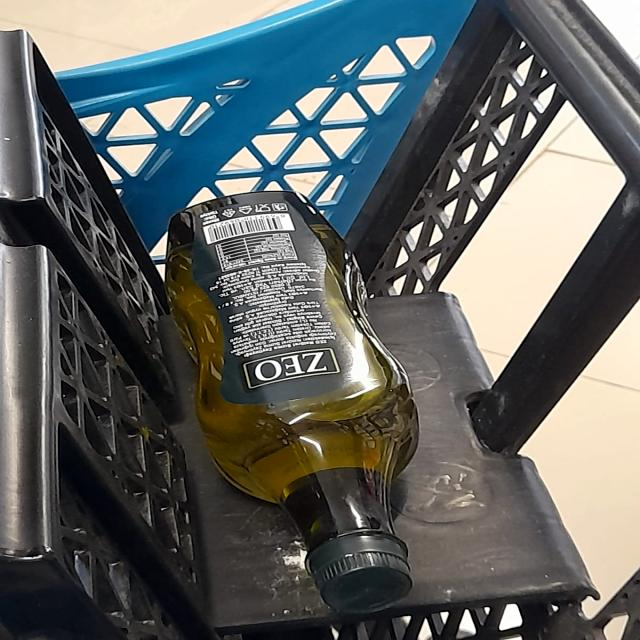olive oil: (161, 196, 419, 609)
